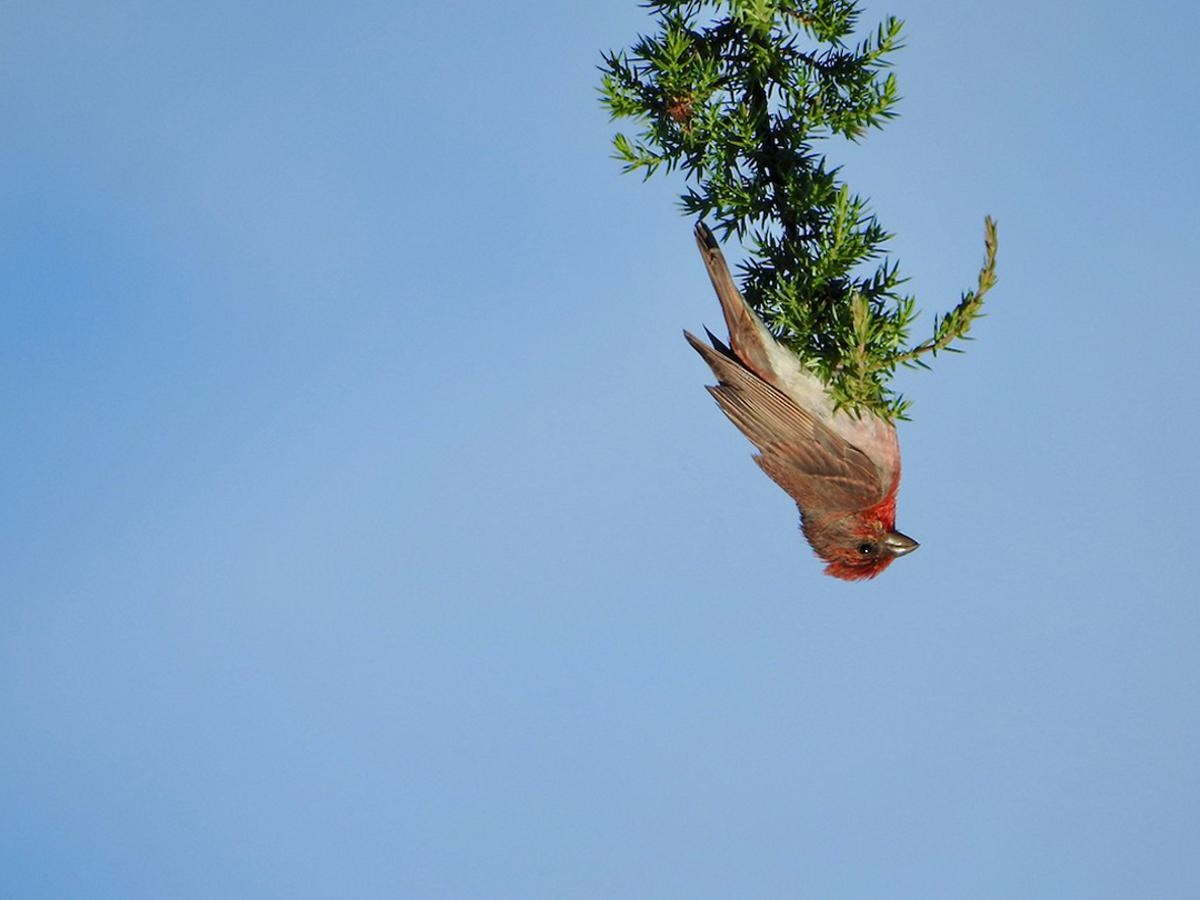rosefinch: (694, 262, 940, 602)
